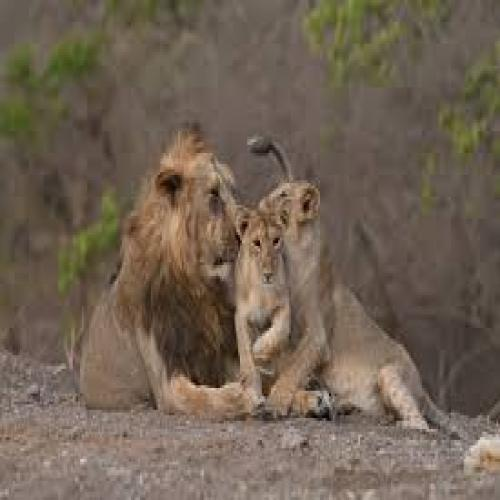lion-endangered: (254, 135, 451, 430), (72, 129, 244, 430), (230, 205, 287, 419)
